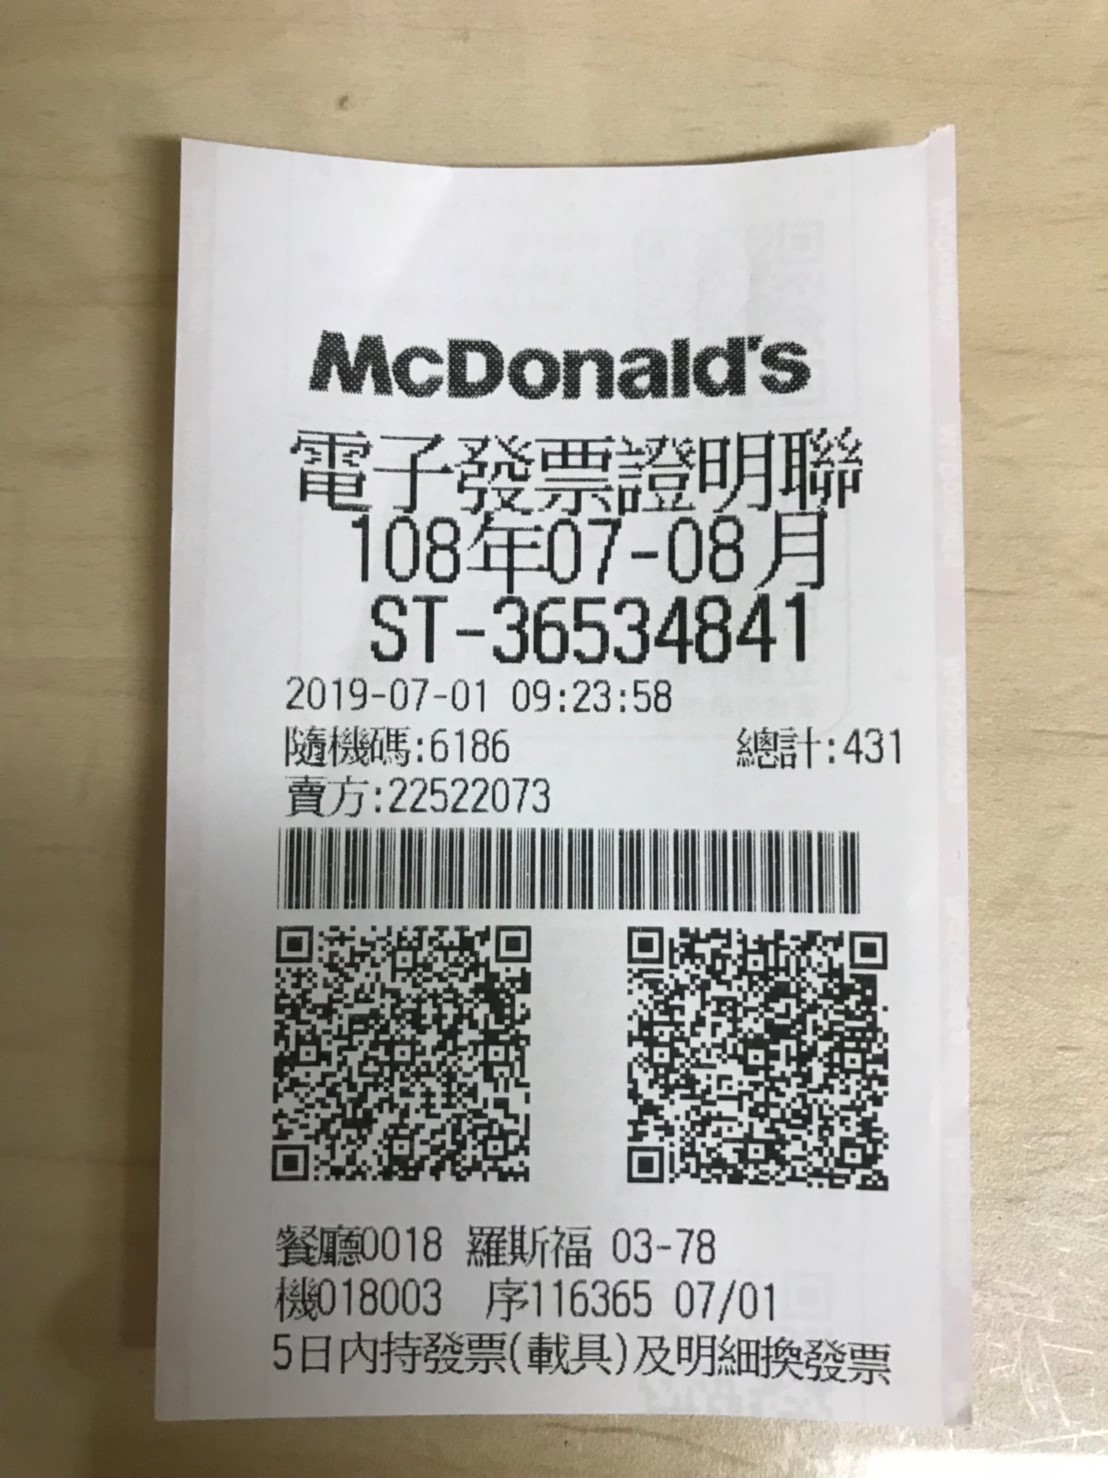Date_New: (347, 510, 829, 591)
Number_New: (492, 585, 811, 667)
